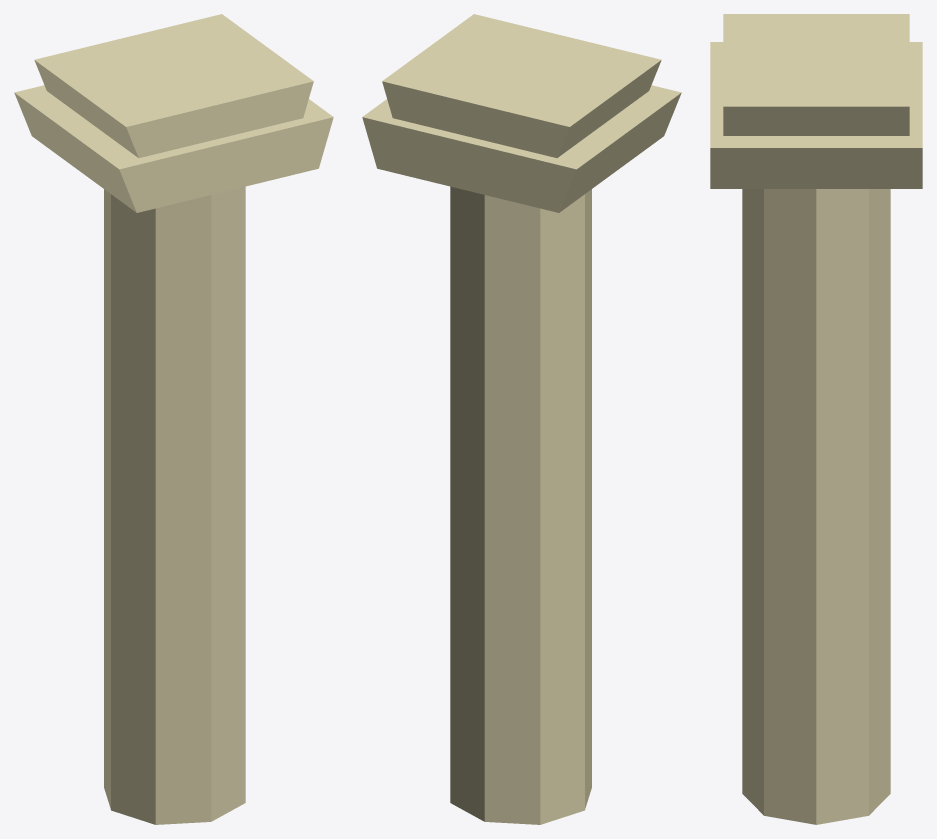
File: MetroPillar.fbx
The picture shows the model from 3 angles, left to right: view 1: azimuth 30°, elevation 25°; view 2: azimuth 150°, elevation 25°; view 3: azimuth 270°, elevation 25°; orthographic projection.
Visible parts, largest first — view 1: pillar 1.001; view 2: pillar 1.001; view 3: pillar 1.001.
Boxes of the visible parts, left/top/right/bottom form: pillar 1.001: left=14, top=14, right=333, bottom=824; pillar 1.001: left=362, top=14, right=681, bottom=824; pillar 1.001: left=710, top=14, right=922, bottom=824.
Bounding box in the file's own units: 31.47 × 102 × 26.71.
